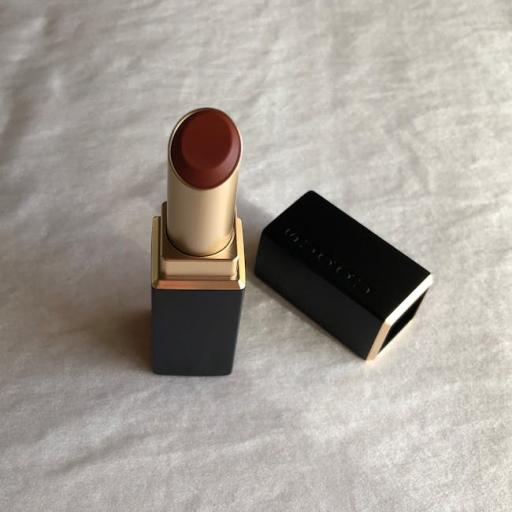lipstick: (152, 109, 244, 375)
